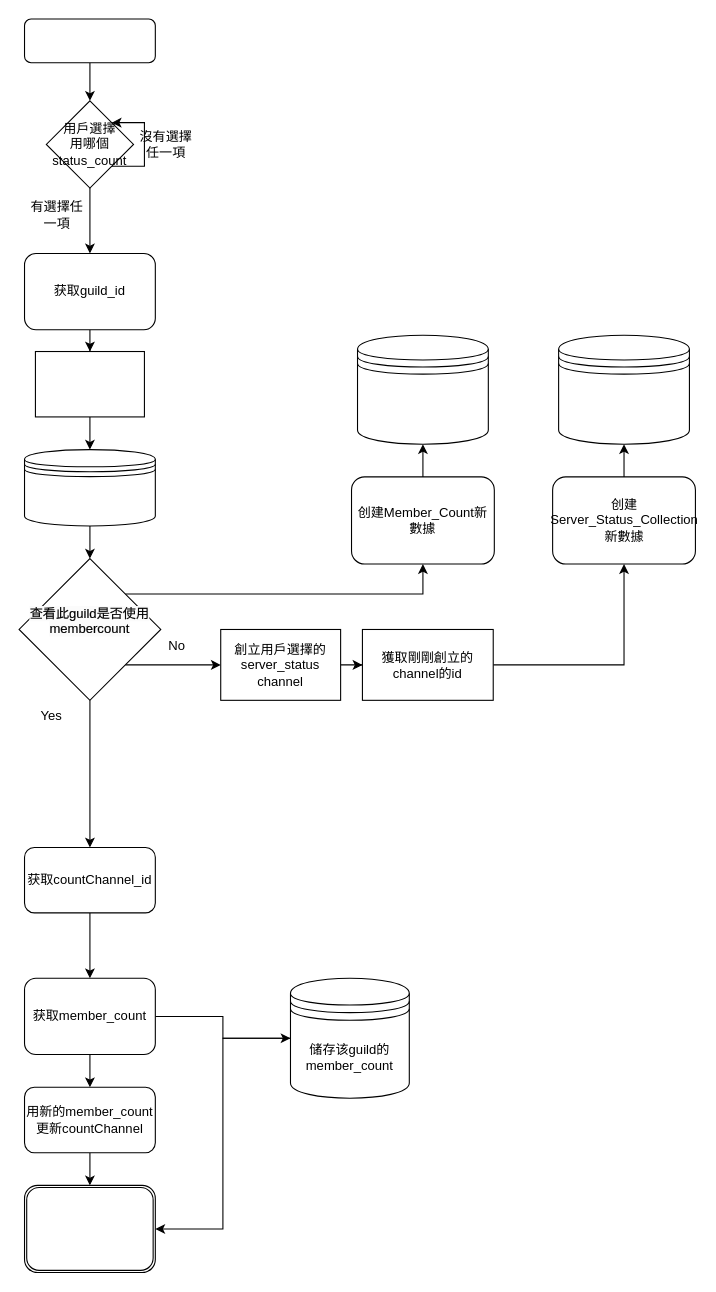
Image size: 716x1292. Some labels were removed from this diagram. Here are the shapes that lost their labels. From the top down, the box of each, then its label:
(23, 18, 155, 63): Execute
(34, 350, 144, 417): 獲取該群的member count
(356, 334, 488, 444): 储存count进入Member_Count
(558, 334, 689, 444): 储存id进入Server_Status_Collection
(23, 449, 155, 526): 打开sqlite
(23, 1184, 155, 1273): 结束
